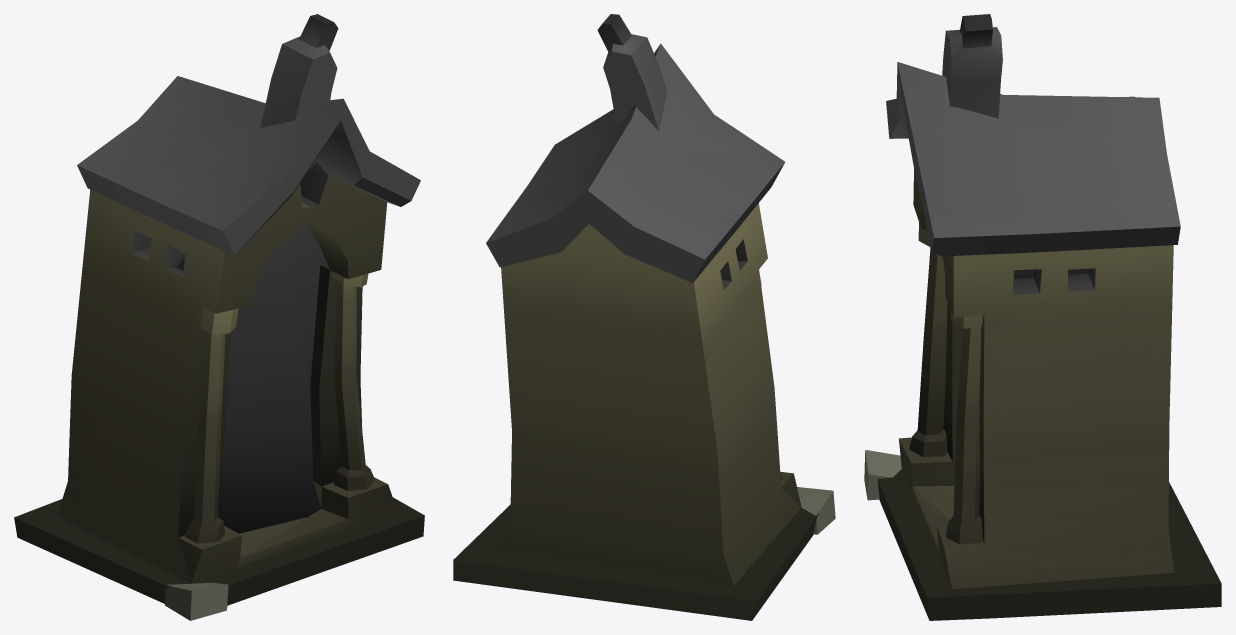
File: ea_bld_monument_1c_pre_3_lev1.glb
The picture shows the model from 3 angles, left to right: view 1: azimuth 30°, elevation 25°; view 2: azimuth 150°, elevation 25°; view 3: azimuth 270°, elevation 25°; orthographic projection. The views are drawn at different scales.
Visible parts, largest first — view 1: ea_bld_monument_1c_pre_3_lev1; view 2: ea_bld_monument_1c_pre_3_lev1; view 3: ea_bld_monument_1c_pre_3_lev1.
Part boxes in pixels (left/top/right/bottom): ea_bld_monument_1c_pre_3_lev1: left=14, top=14, right=424, bottom=620; ea_bld_monument_1c_pre_3_lev1: left=453, top=14, right=835, bottom=620; ea_bld_monument_1c_pre_3_lev1: left=864, top=14, right=1221, bottom=620.
Bounding box in the file's own units: 7.43 × 11.92 × 6.87.
Materials: 1 (1 with a texture image).
